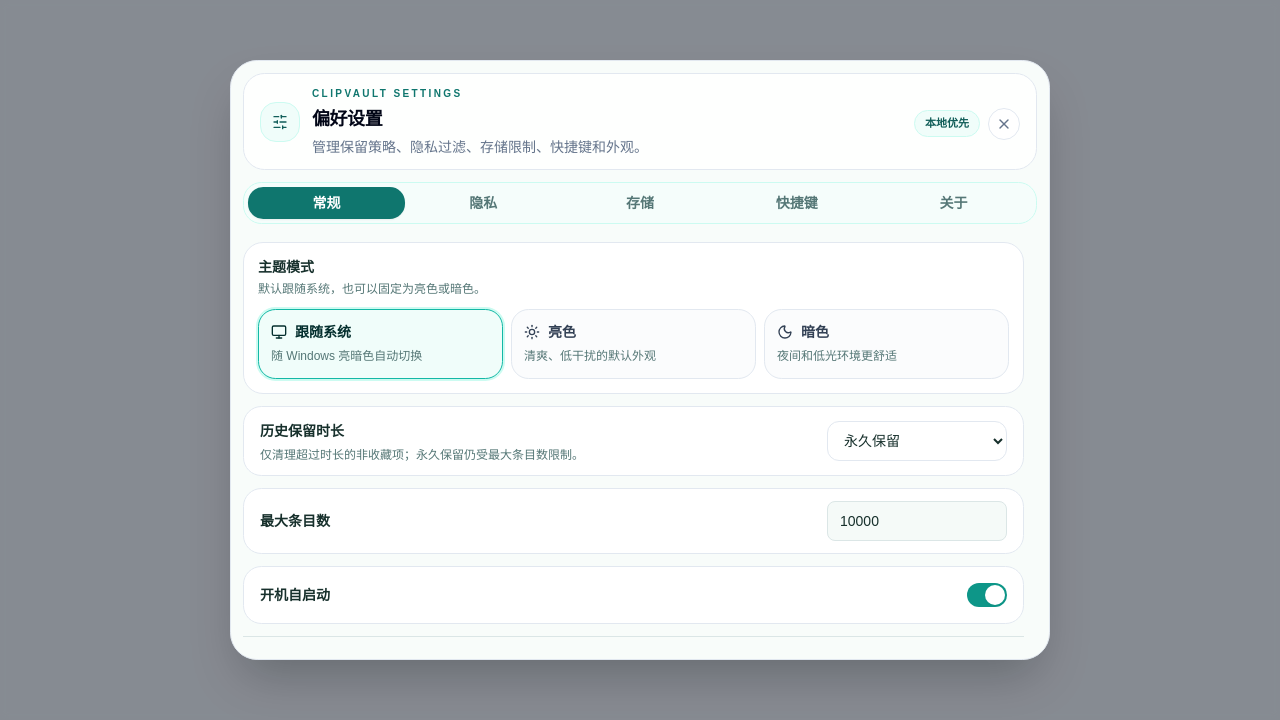
Test case: SettingsPanel › does not save maximum item count while the number field is incomplete
The width and height of the screenshot is (1280, 720).
Clear the number field showing "10000" at (917, 521), box [827,501,1007,541]
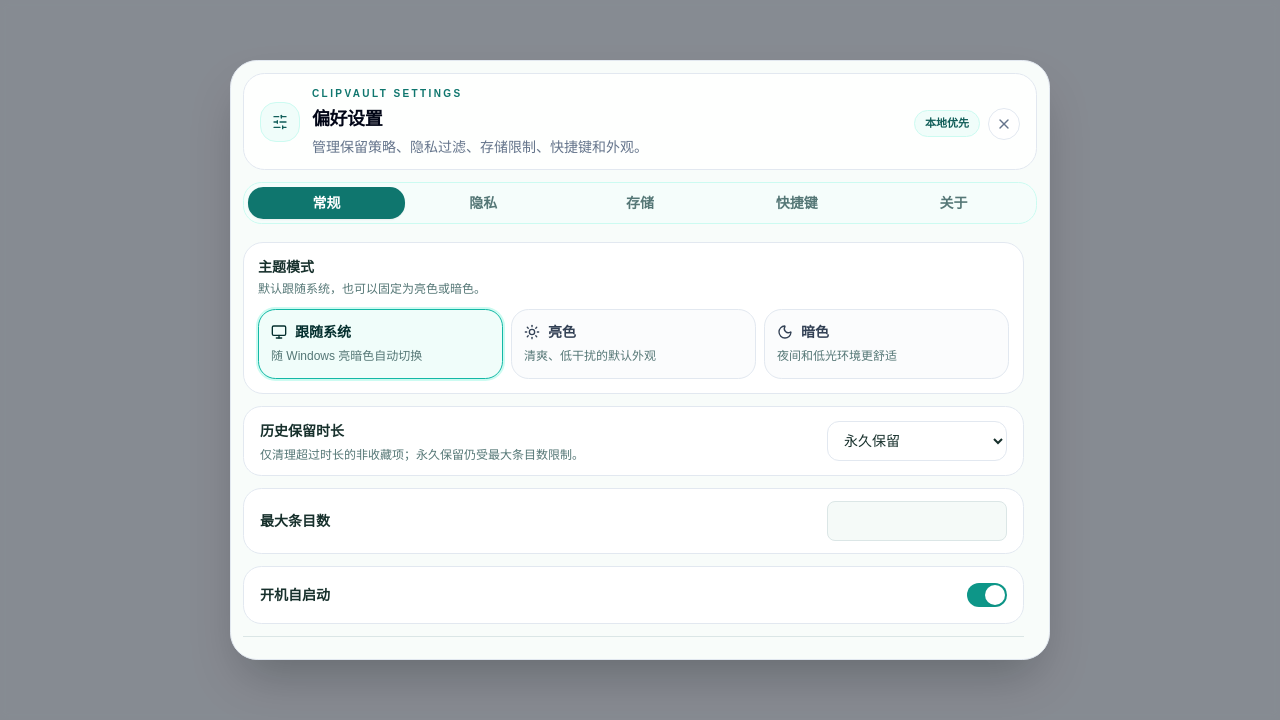
Leave the number field showing "10000", box [827,501,1007,541]
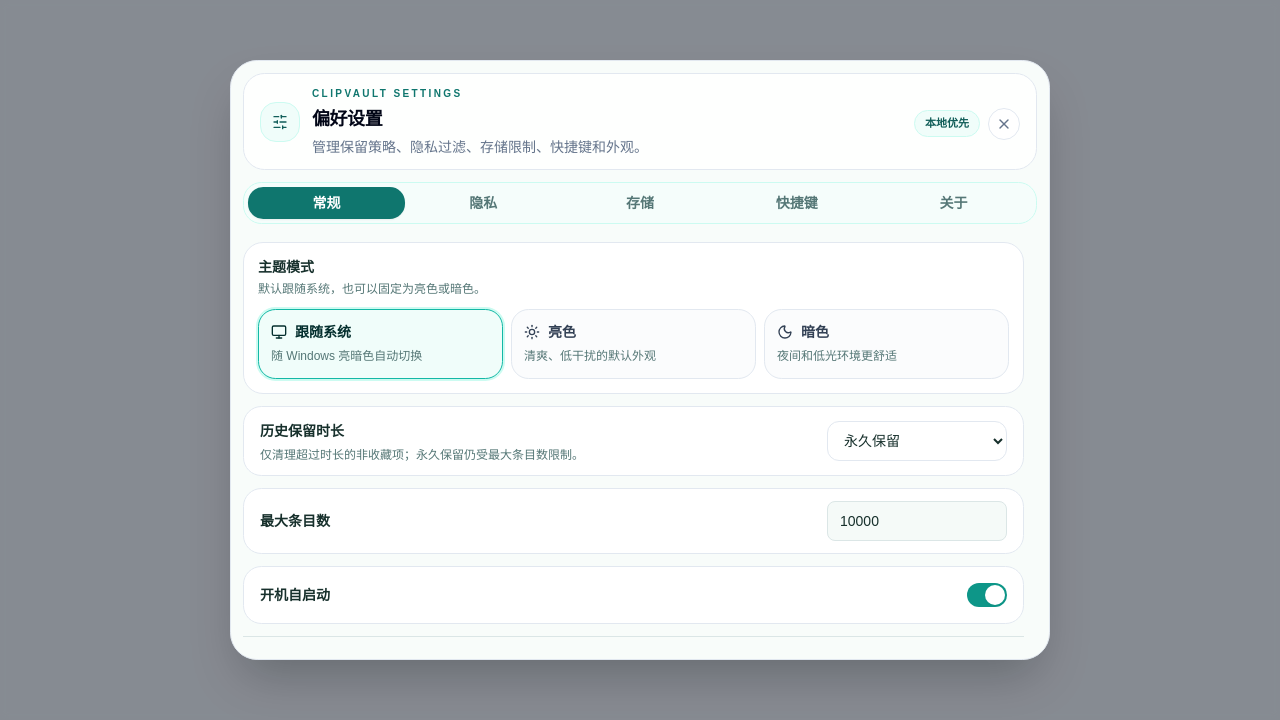
Now the number field showing "10000" holds "10000", box [827,501,1007,541]
